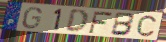1: (52, 8, 63, 32)
B: (109, 12, 137, 37)
C: (136, 15, 158, 38)
D: (64, 9, 89, 34)
F: (88, 10, 114, 34)
G: (21, 6, 43, 30)
